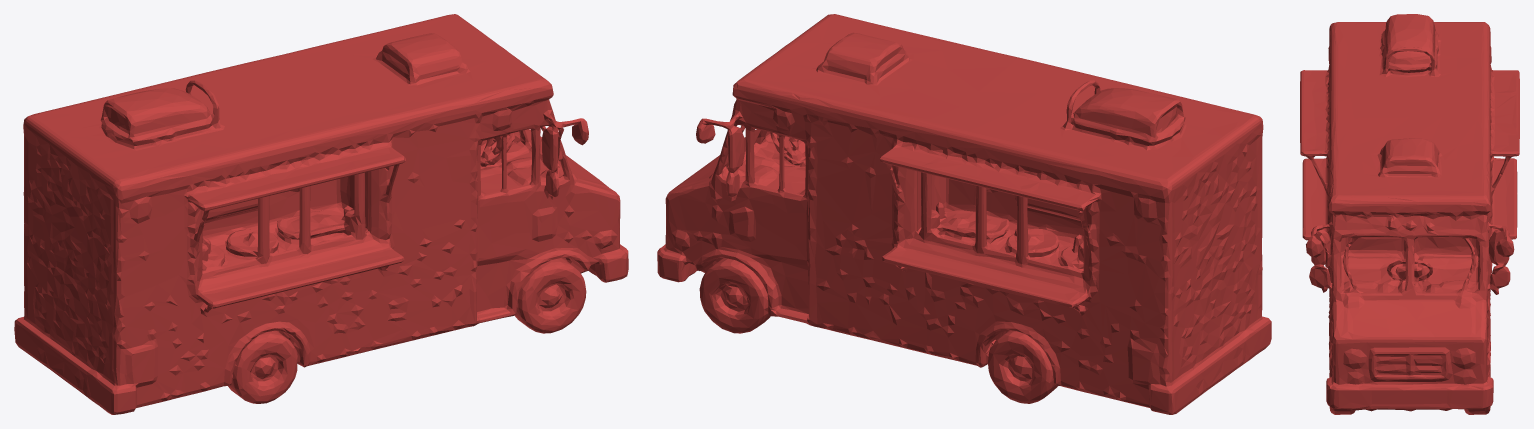
The model's file is car_main.glb.
3 views of the same model, side by side, from view 1: azimuth 30°, elevation 25°; view 2: azimuth 150°, elevation 25°; view 3: azimuth 270°, elevation 25° (orthographic). The views are drawn at different scales.
Visible parts, largest first — view 1: white_mesh; view 2: white_mesh; view 3: white_mesh.
Boxes of the visible parts, <box> form: white_mesh: <box>14,14,628,414</box>; white_mesh: <box>657,14,1271,414</box>; white_mesh: <box>1300,14,1519,414</box>.
Bounding box in the file's own units: 1.96 × 1.04 × 0.8611.
